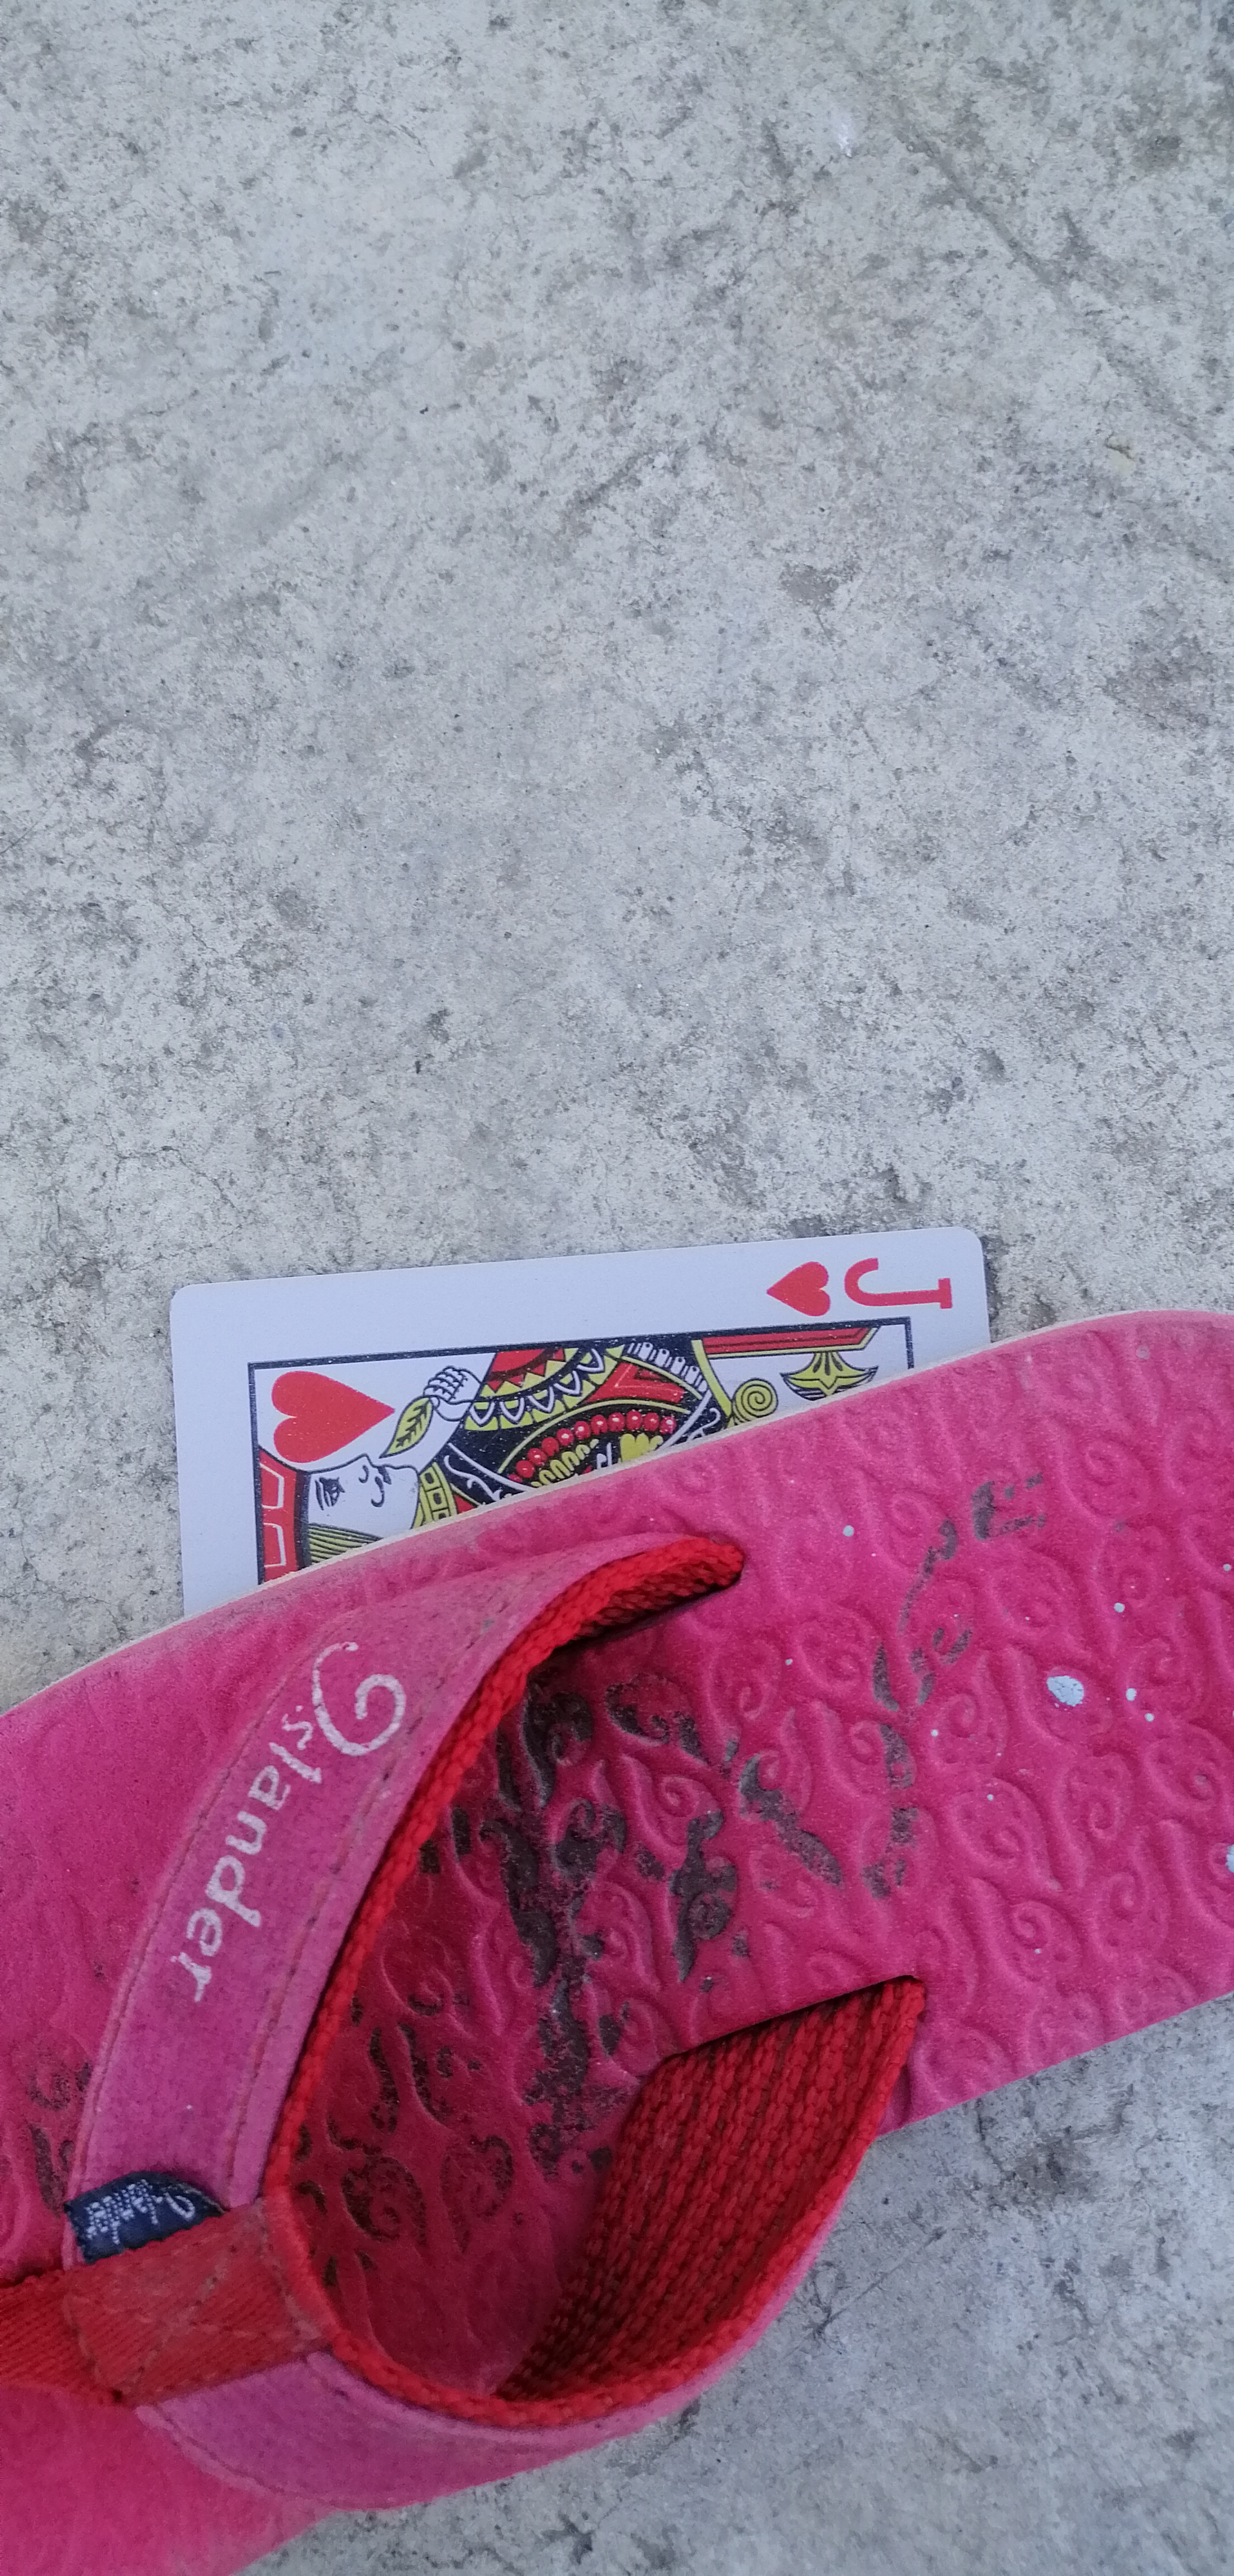jack: (133, 1207, 1027, 1603)
